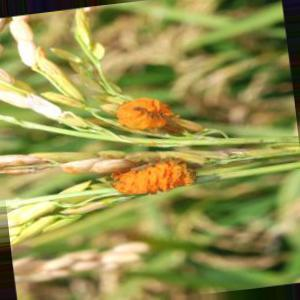Leaf_Scald: (112, 163, 196, 199), (120, 93, 170, 135)
